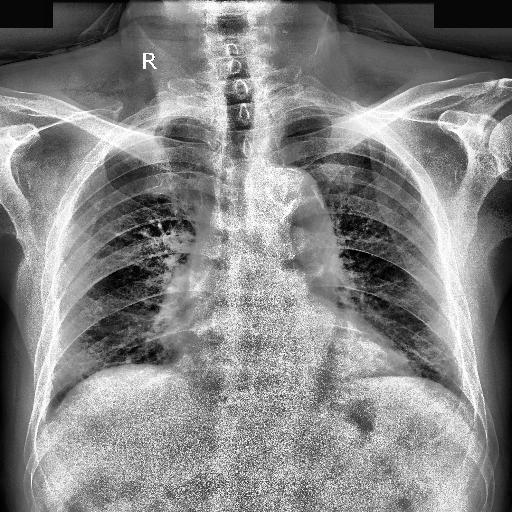0- Aortic enlargement: (246, 166, 338, 258), (244, 166, 340, 234), (262, 166, 326, 228)
3- Cardiomegaly: (174, 320, 420, 382), (168, 334, 422, 388), (172, 328, 409, 378)
